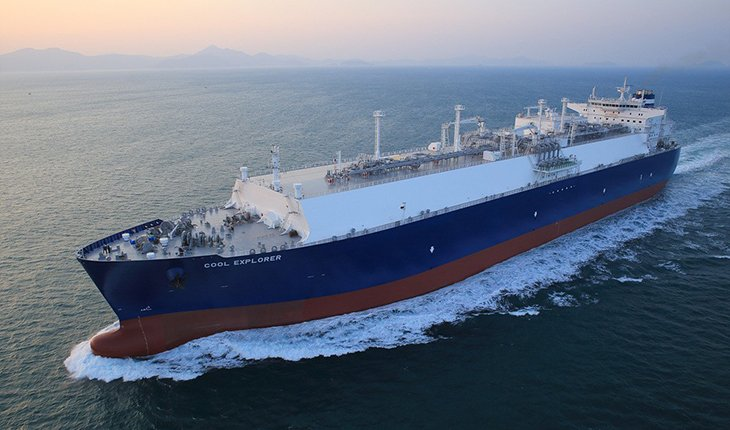Cargoship: (75, 77, 681, 361)
